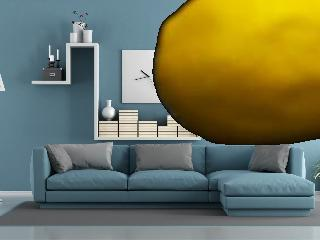lemon: (156, 0, 320, 146)
